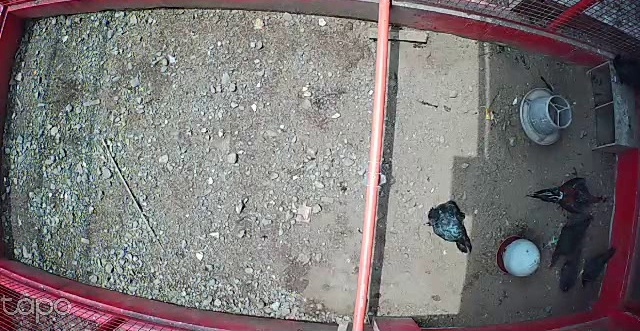Chicken: (545, 211, 594, 270), (424, 201, 473, 255), (578, 242, 619, 286), (555, 245, 586, 296)
Drinker: (494, 234, 542, 277)
Feeder: (520, 84, 574, 146)
Rooster: (527, 170, 612, 215)
